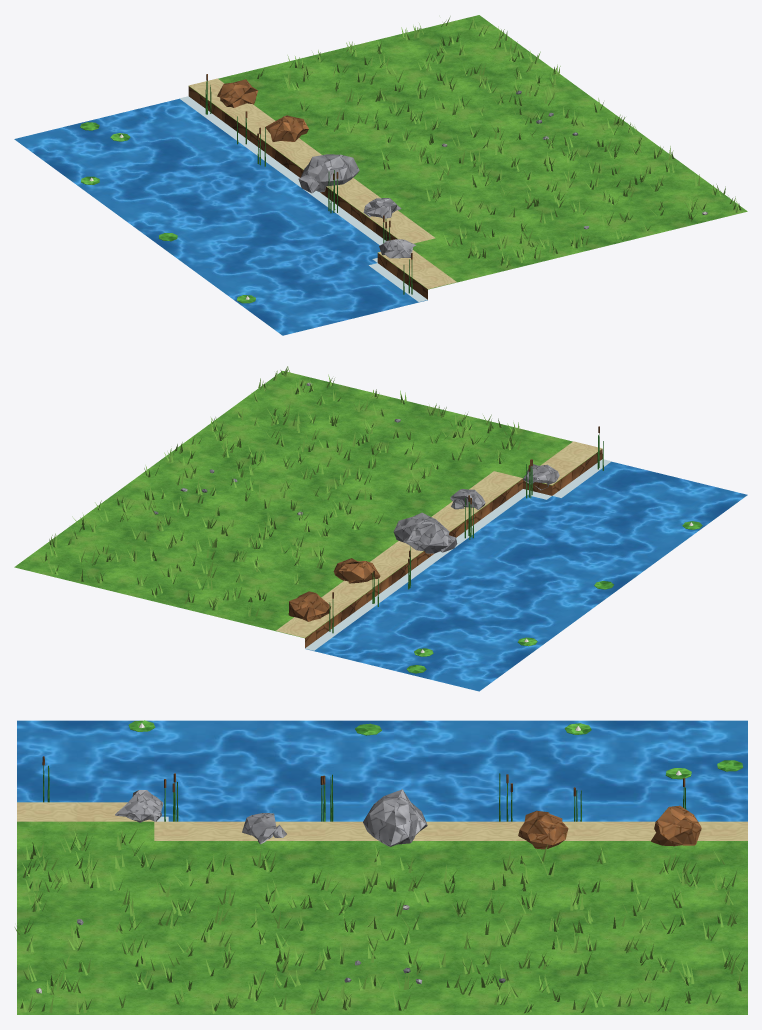
File: chunk_0_5.glb
3 renders of one model, top to bottom at view 1: azimuth 30°, elevation 25°; view 2: azimuth 150°, elevation 25°; view 3: azimuth 270°, elevation 25°, orthographic. The views are drawn at different scales.
Parts seen in each view (by area): view 1: chunk_0_5; view 2: chunk_0_5; view 3: chunk_0_5.
Boxes of the visible parts, x1=… form: chunk_0_5: x1=14, y1=15, x2=747, y2=335; chunk_0_5: x1=14, y1=366, x2=747, y2=691; chunk_0_5: x1=14, y1=720, x2=747, y2=1014.
Bounding box in the file's own units: 16.07 × 1.49 × 16.07.
14 materials, 11 textured.
